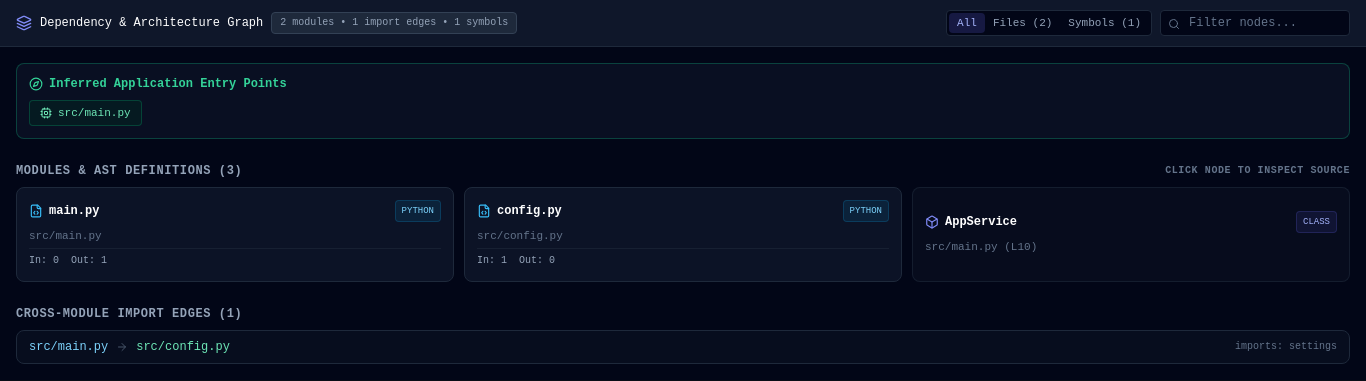
ArchitectureGraph Component › filters nodes when selecting Files only or Symbols only
Click the button "Files (2)" at (1023, 23), box [985,13,1060,33]
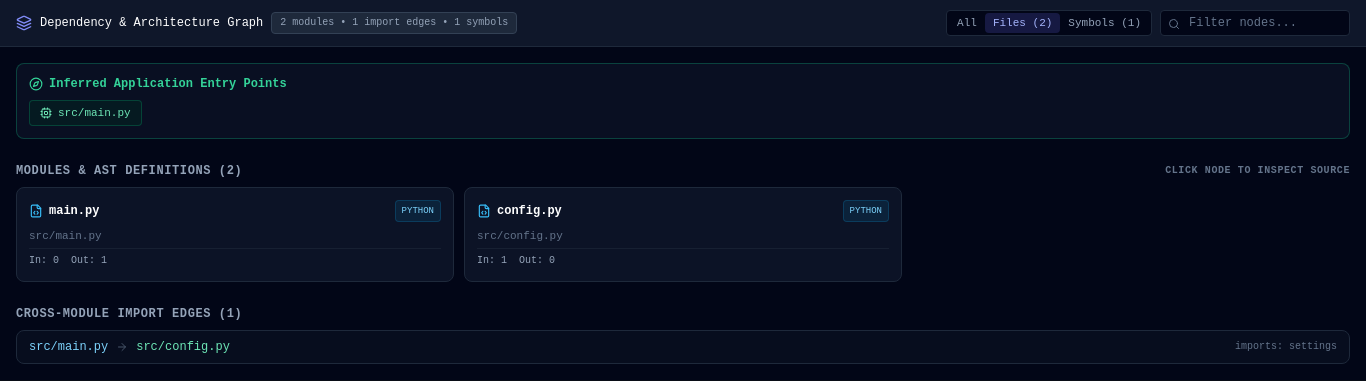
Expected: the text "main.py" is shown, [49,203,99,219]
Now the button "AppService" is gone
Click the button "Symbols (1)" at (1105, 23), box [1060,13,1149,33]
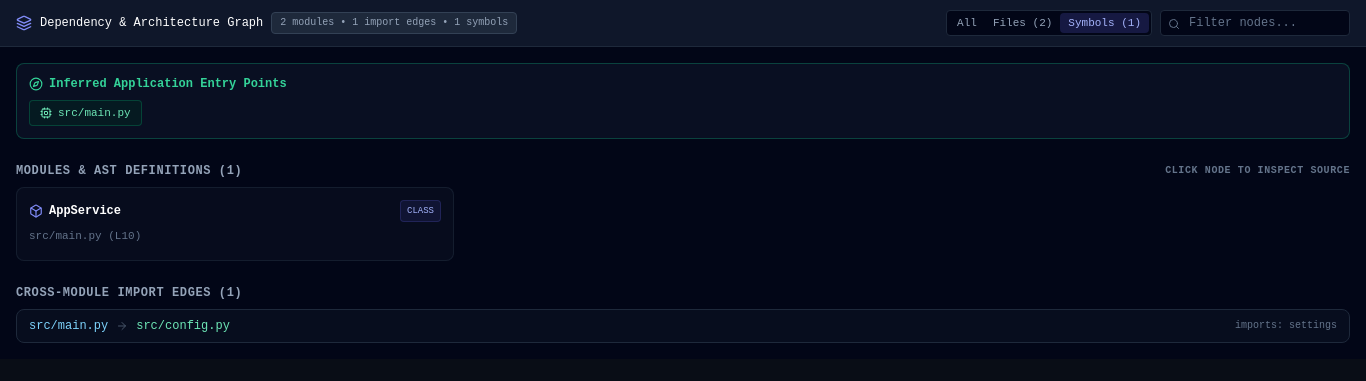
Now the text "AppService" is shown, box [49,203,121,219]
